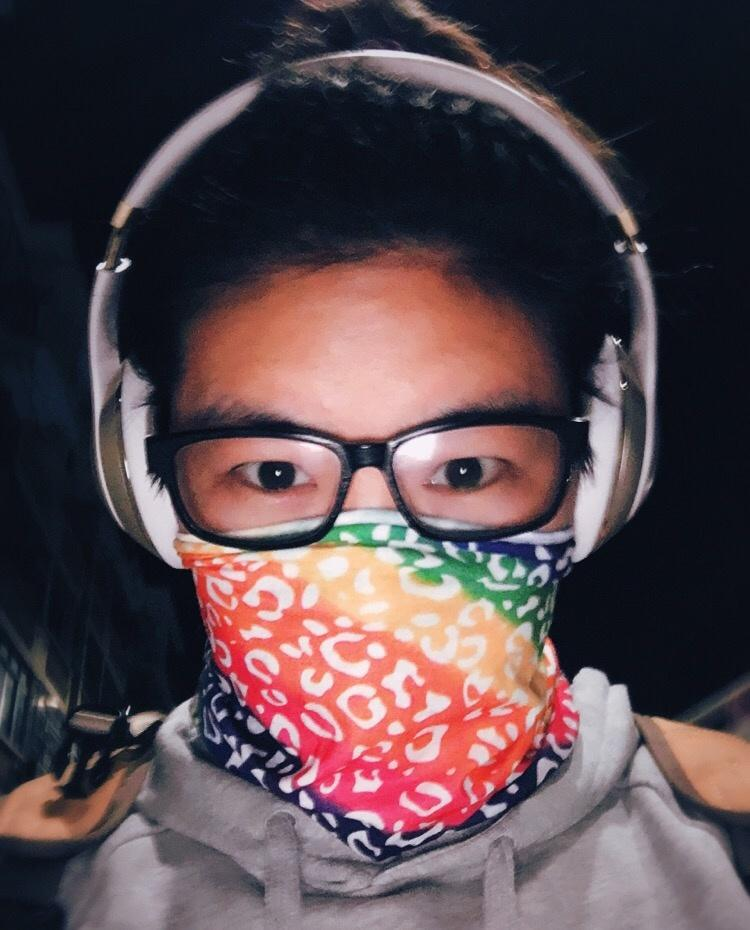OK: (166, 363, 582, 779)
